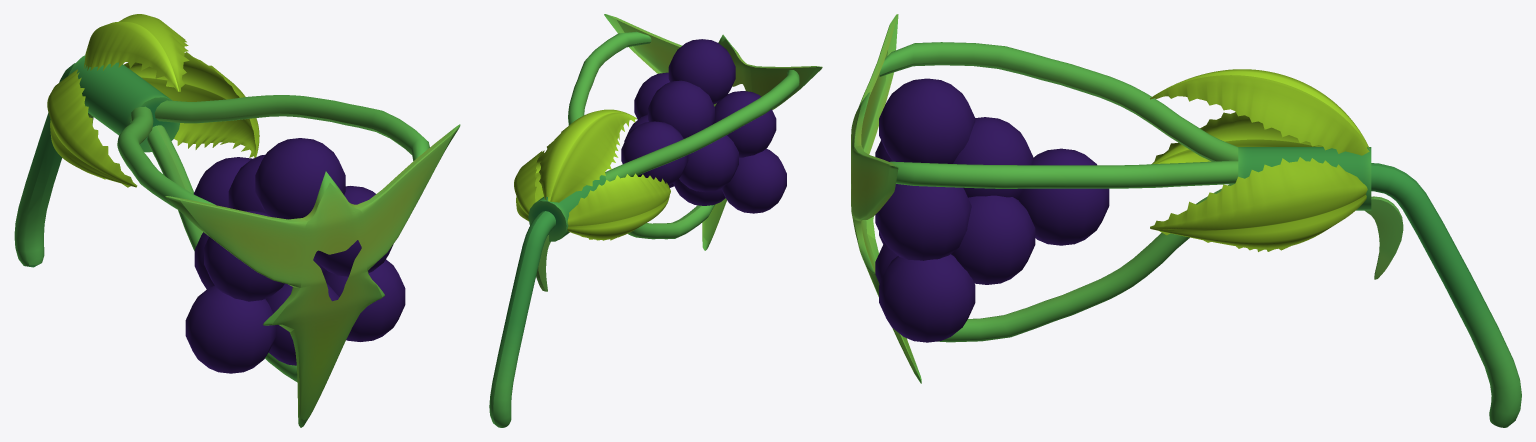
Rendered from grape_shooter_no_texture.fbx.
3 views of the same model, side by side, from view 1: azimuth 30°, elevation 25°; view 2: azimuth 150°, elevation 25°; view 3: azimuth 270°, elevation 25° (orthographic). The views are drawn at different scales.
Parts seen in each view (by area): view 1: Cylinder, Sphere.013, Sphere.006, Sphere.007, Sphere.017, Sphere.003, Sphere.015, Sphere.002, Sphere.012, Sphere.001; view 2: Cylinder, Sphere.013, Sphere.006, Sphere.002, Sphere.001, Sphere.003, Sphere.017, Sphere.015, Sphere.012; view 3: Cylinder, Sphere.007, Sphere.006, Sphere.015, Sphere.001, Sphere.003, Sphere.002.
Part boxes in pixels (x1,y1,x2,y2): Cylinder: (14,14,460,427); Sphere.013: (185,285,276,373); Sphere.006: (255,138,345,219); Sphere.007: (323,259,405,341); Sphere.017: (204,210,284,301); Sphere.003: (193,157,251,207); Sphere.015: (314,186,393,276); Sphere.002: (228,154,266,213); Sphere.012: (266,283,339,365); Sphere.001: (194,232,326,289); Cylinder: (489,14,822,427); Sphere.013: (721,148,786,213); Sphere.006: (668,39,735,104); Sphere.002: (648,80,714,138); Sphere.001: (624,114,738,192); Sphere.003: (621,121,688,185); Sphere.017: (713,91,776,157); Sphere.015: (634,72,669,119); Sphere.012: (673,179,725,205); Cylinder: (851,14,1521,427); Sphere.007: (879,254,975,342); Sphere.006: (879,78,975,163); Sphere.015: (875,184,971,260); Sphere.001: (951,195,1035,284); Sphere.003: (1018,148,1109,245); Sphere.002: (953,117,1033,199).
Bounding box in the file's own units: 78.54 × 83.82 × 145.
4 materials, 3 textured.
